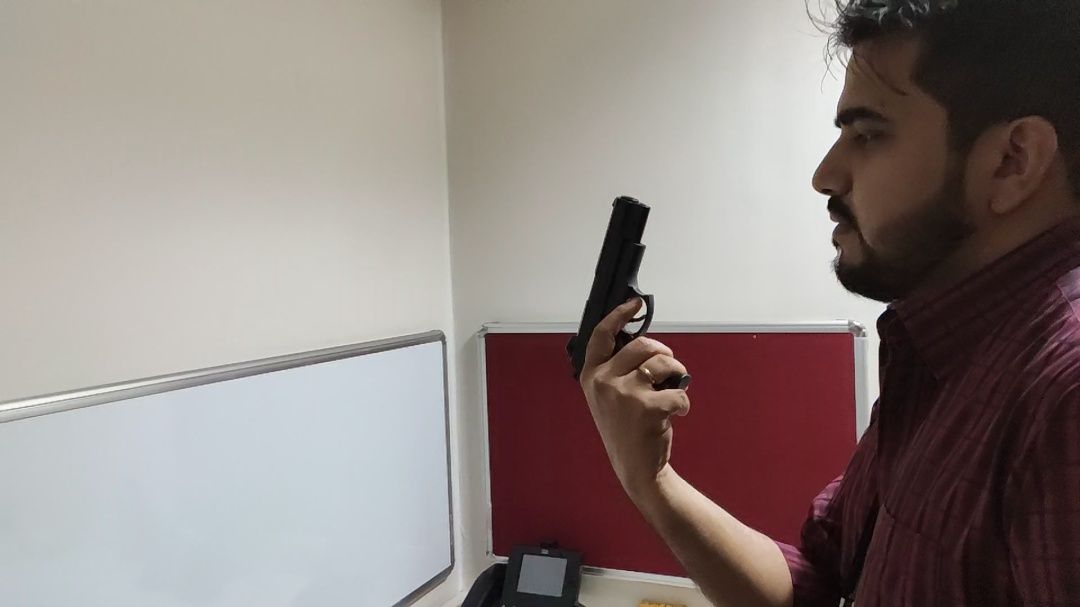gun: (565, 194, 665, 350)
